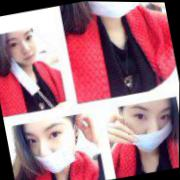NONE: (7, 33, 42, 70)
WRONG: (123, 99, 179, 156), (23, 121, 79, 177)
